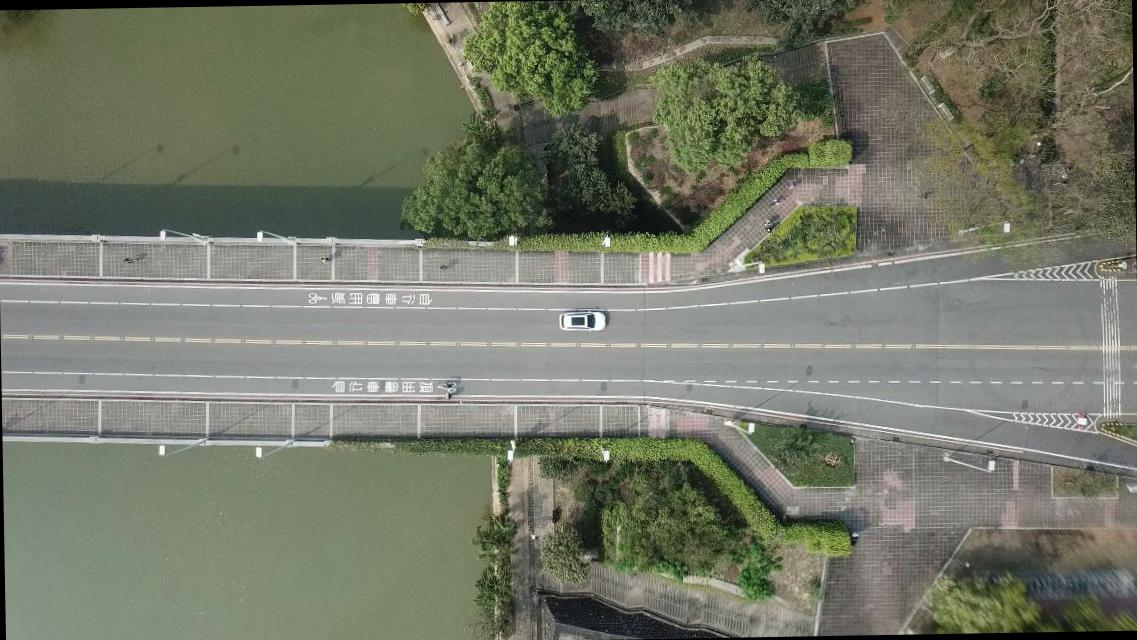vehicle: (559, 310, 605, 332)
